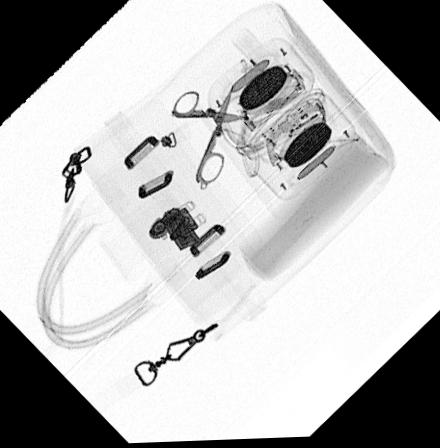Scissors: (169, 87, 247, 192)
